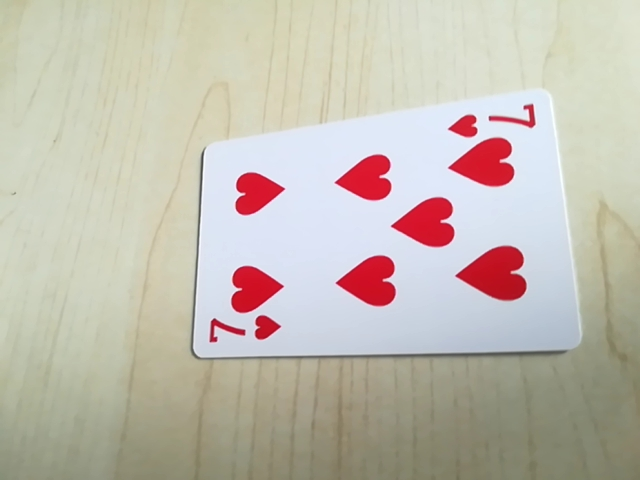hx 7: (445, 98, 544, 137), (202, 314, 285, 354)
